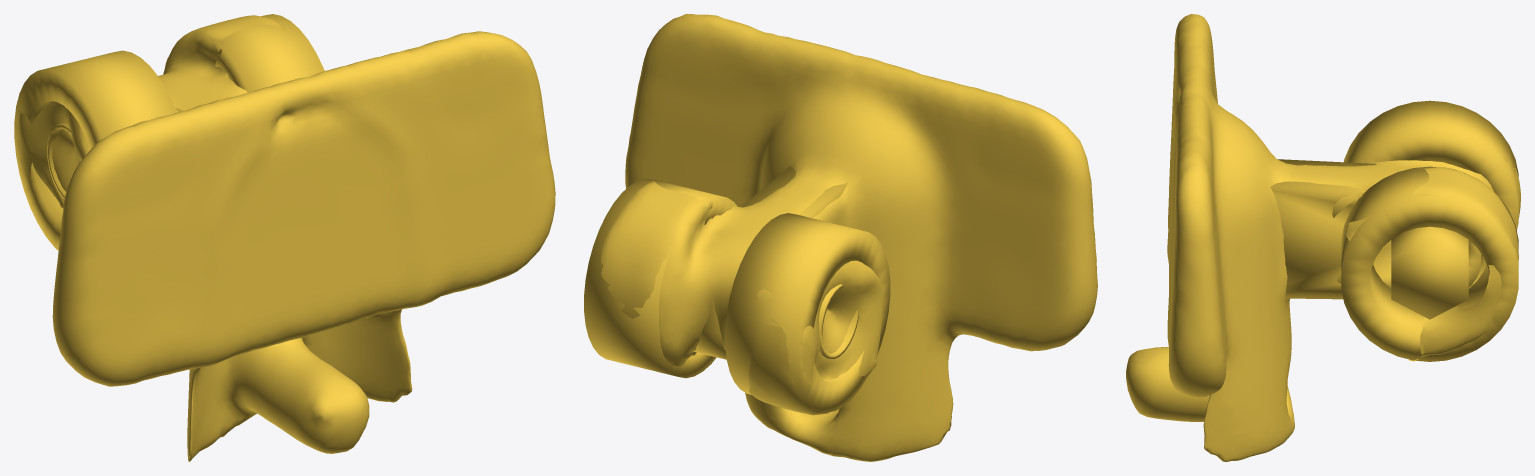
The model's file is RearWing.obj.
The picture shows the model from 3 angles, left to right: view 1: azimuth 30°, elevation 25°; view 2: azimuth 150°, elevation 25°; view 3: azimuth 270°, elevation 25°; orthographic projection. The views are drawn at different scales.
Visible parts, largest first — view 1: RearWing; view 2: RearWing; view 3: RearWing.
Part boxes in pixels (box(x1,y1,x2,y2)): RearWing: box(14, 14, 555, 461); RearWing: box(584, 14, 1097, 461); RearWing: box(1126, 14, 1520, 461).
Bounding box in the file's own units: 0.1152 × 0.0868 × 0.0887.
1 material, 1 textured.
